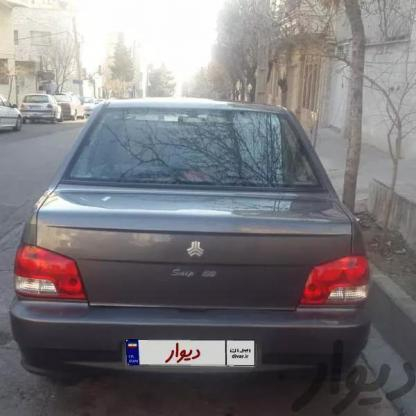Car: (0, 98, 416, 388), (13, 91, 63, 125), (0, 97, 22, 136)
